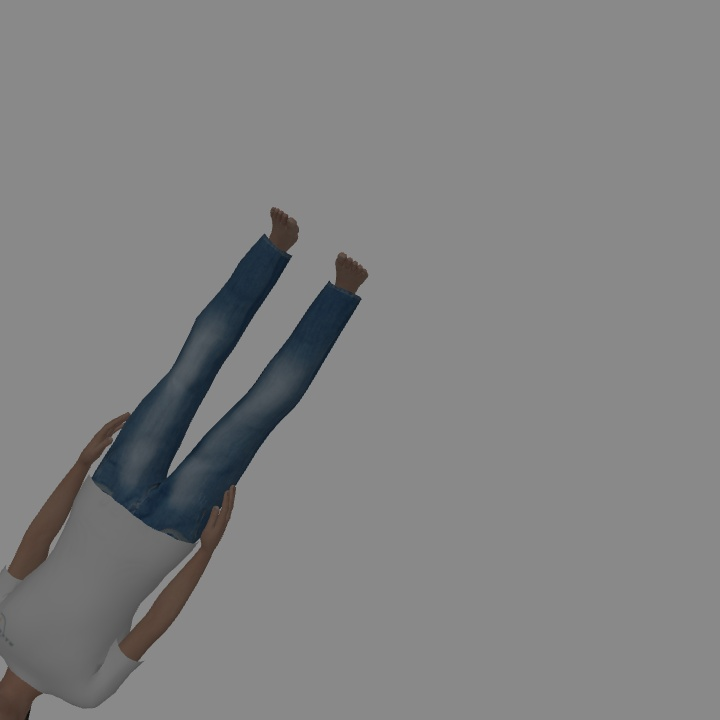victim: (4, 210, 366, 720)
